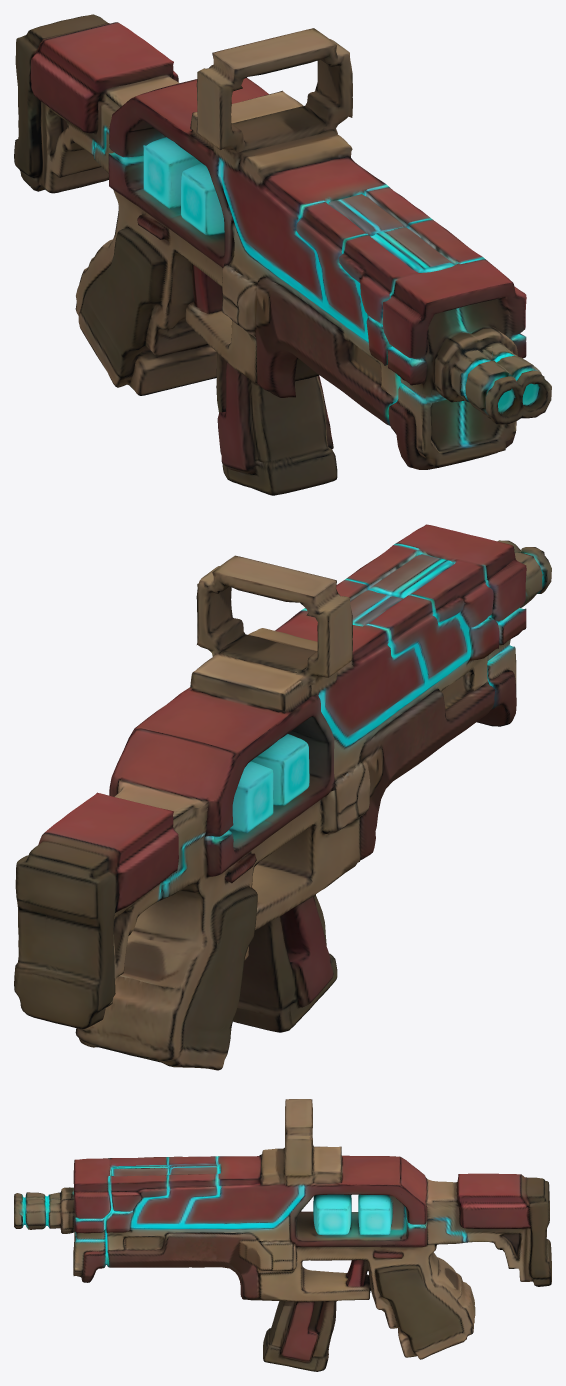
The model's file is base_rifle_shaded.fbx.
3 views of the same model, one above another, from view 1: azimuth 30°, elevation 25°; view 2: azimuth 150°, elevation 25°; view 3: azimuth 270°, elevation 25° (orthographic). The views are drawn at different scales.
Visible parts, largest first — view 1: model; view 2: model; view 3: model.
Boxes of the visible parts, bbox=[...] form: model: bbox=[14, 14, 551, 495]; model: bbox=[14, 524, 551, 1070]; model: bbox=[14, 1099, 551, 1371].
Bounding box in the file's own units: 30.96 × 97.45 × 189.
